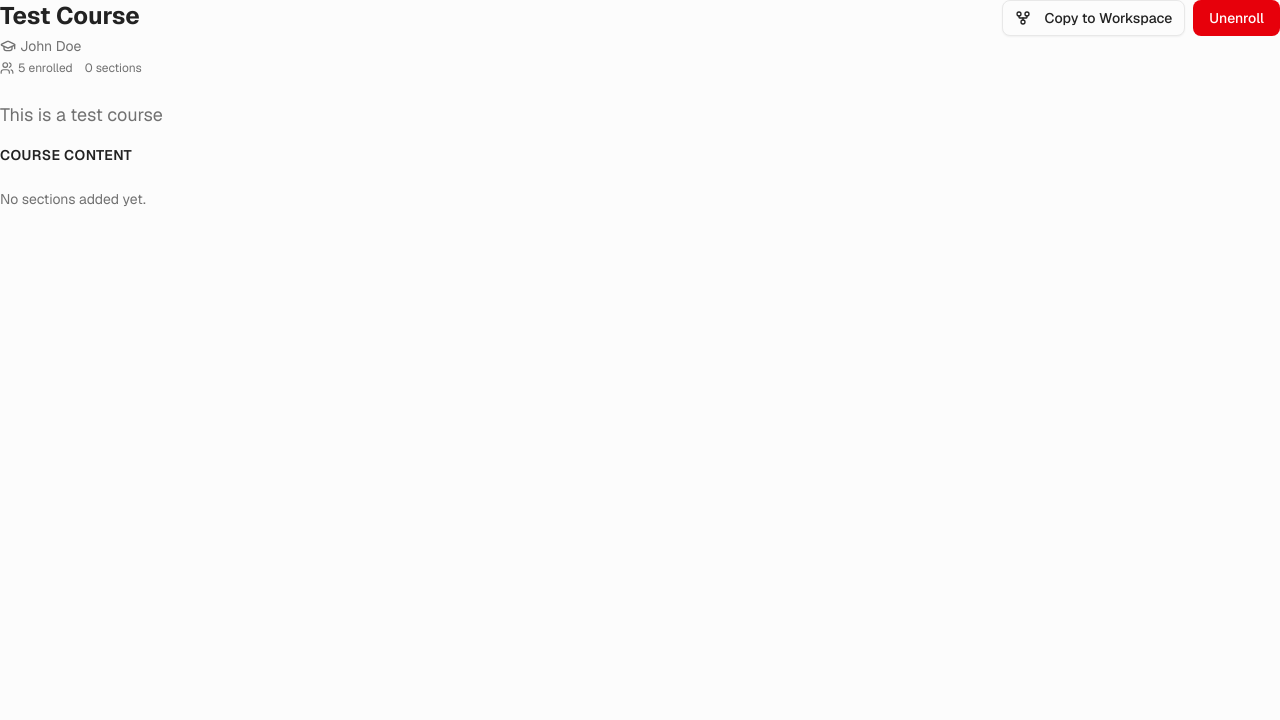
it: CourseDetail Component › handles cloning (forking) interaction and captures correct payload
Later steps or results of the test are not shown.
Click the button "Copy to Workspace" at (1093,18), box top-left (1002, 0), bottom-right (1185, 36)
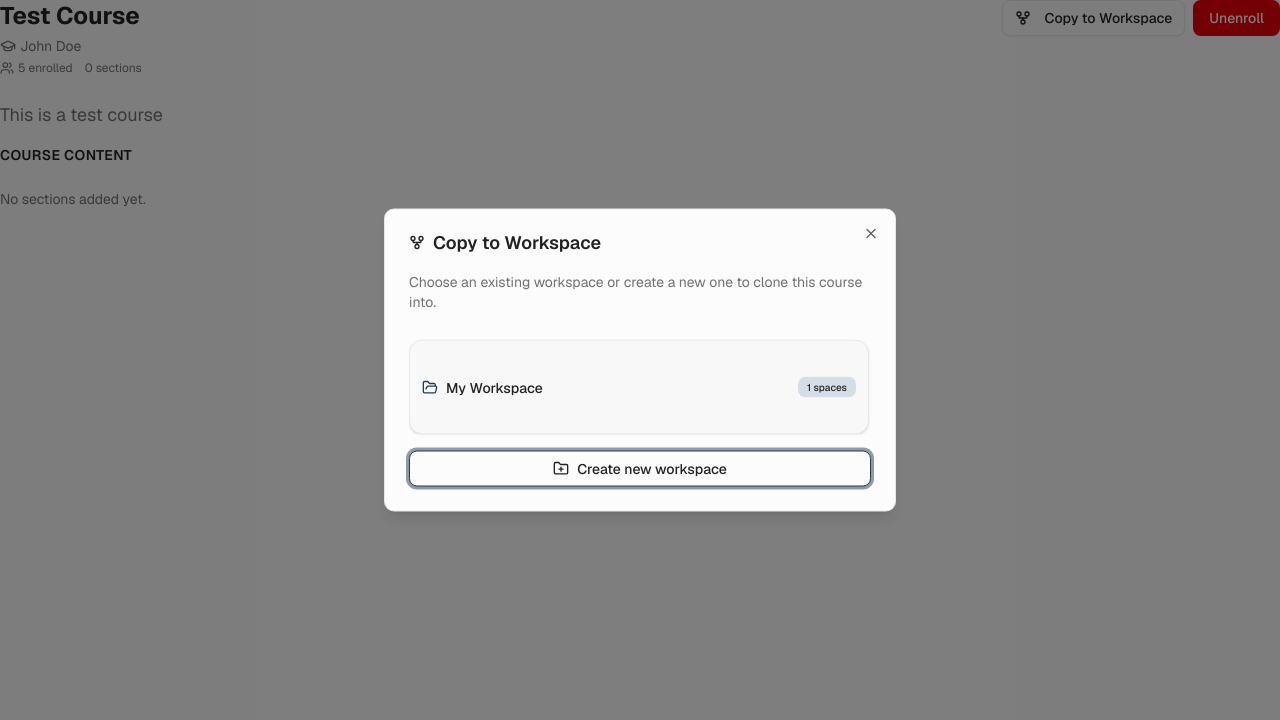
Check: the text "My Workspace" is shown
Click the workspace card
Click the text "My Workspace" at (494,387), box top-left (446, 377), bottom-right (543, 397)
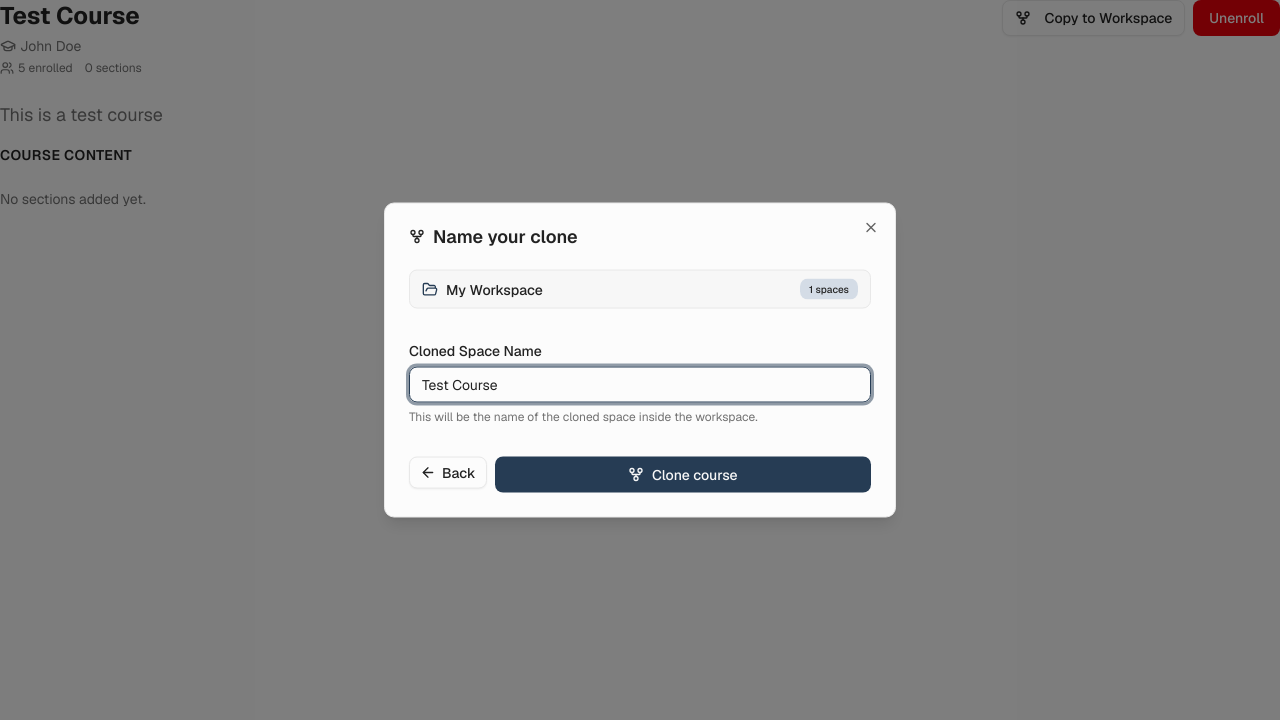
Check: the heading "Name your clone" is shown, box top-left (409, 224), bottom-right (578, 248)
Check: the field labelled "Cloned Space Name" holds "Test Course", box top-left (409, 366), bottom-right (871, 402)
